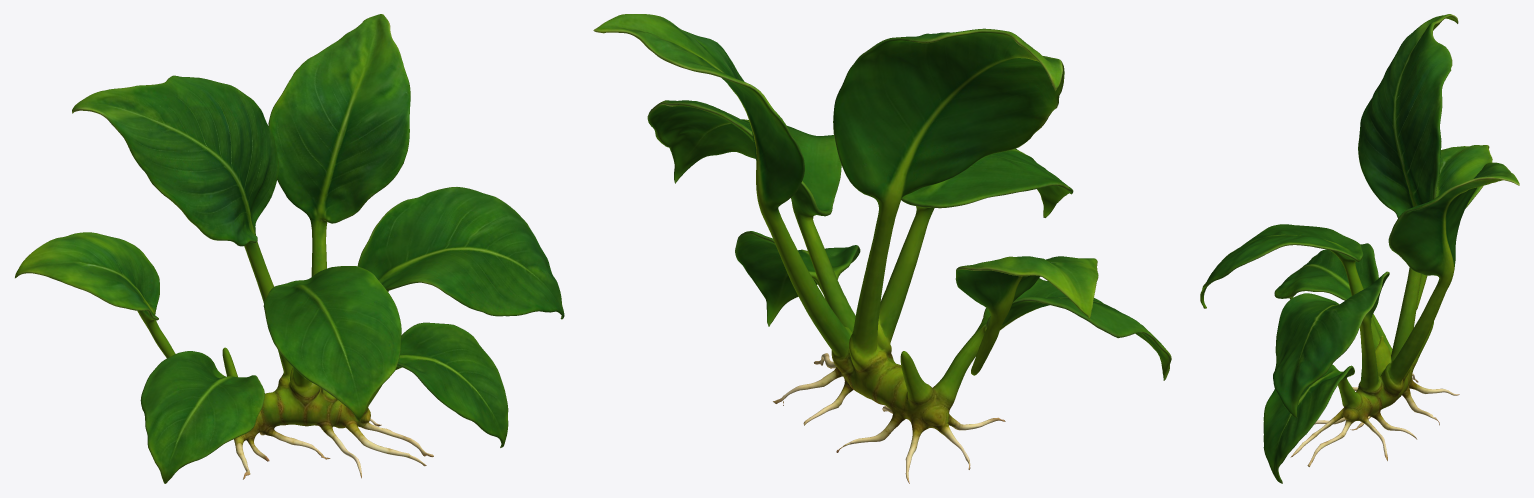
Rendered from green+leafy+plant+3d+model.glb.
The picture shows the model from 3 angles, left to right: view 1: azimuth 30°, elevation 25°; view 2: azimuth 150°, elevation 25°; view 3: azimuth 270°, elevation 25°; orthographic projection. The views are drawn at different scales.
Visible parts, largest first — view 1: tripo_node_161da29a-d9c6-4278-ae7f-2e1031b14f72; view 2: tripo_node_161da29a-d9c6-4278-ae7f-2e1031b14f72; view 3: tripo_node_161da29a-d9c6-4278-ae7f-2e1031b14f72.
Boxes of the visible parts, bbox=[...] form: tripo_node_161da29a-d9c6-4278-ae7f-2e1031b14f72: bbox=[15, 14, 564, 483]; tripo_node_161da29a-d9c6-4278-ae7f-2e1031b14f72: bbox=[593, 14, 1171, 483]; tripo_node_161da29a-d9c6-4278-ae7f-2e1031b14f72: bbox=[1200, 14, 1519, 483].
Bounding box in the file's own units: 0.9949 × 0.8063 × 0.6818.
1 material, 1 textured.
